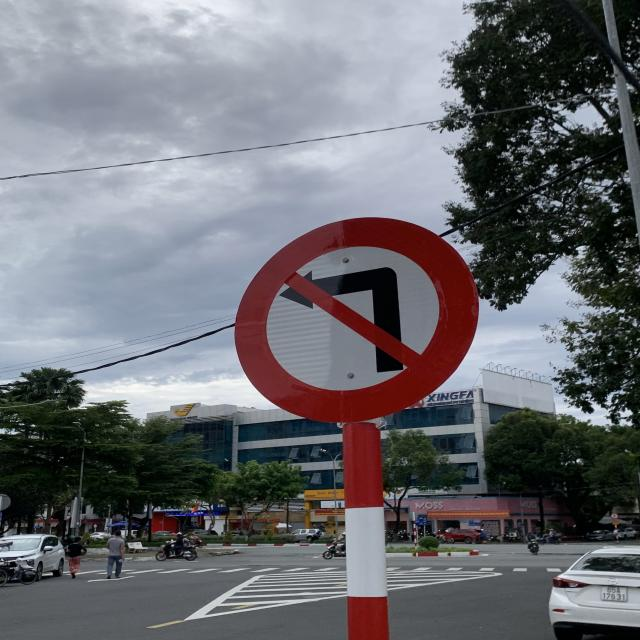Cam_Re_Trai: (236, 219, 482, 422)
